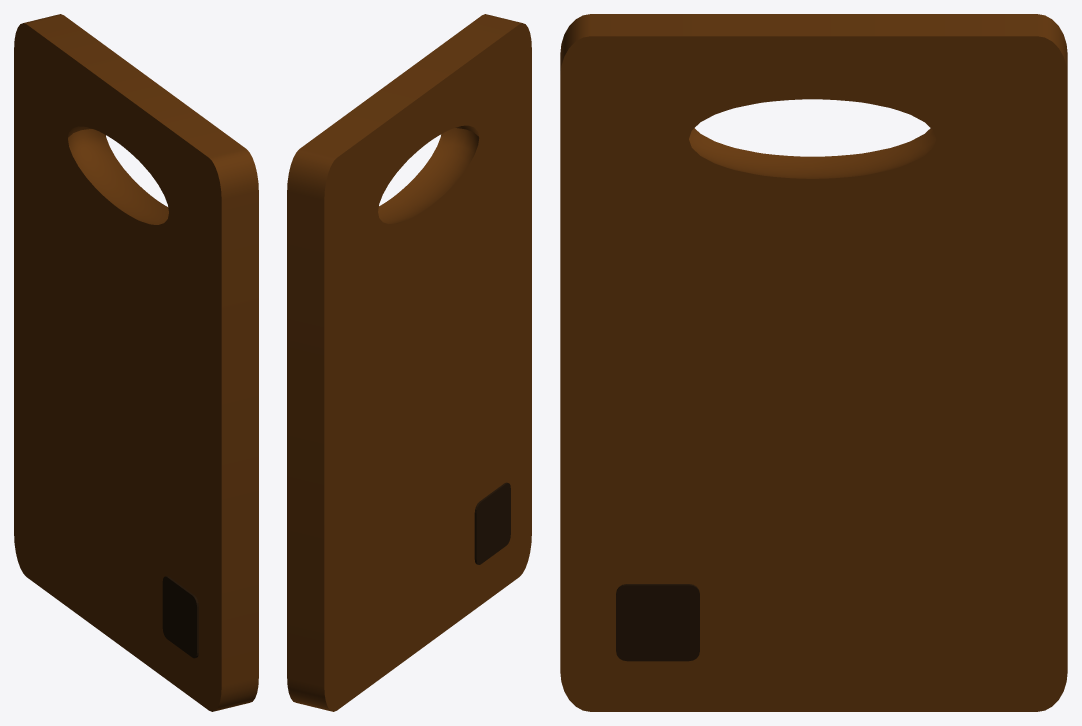
File: Doska.fbx
The picture shows the model from 3 angles, left to right: view 1: azimuth 30°, elevation 25°; view 2: azimuth 150°, elevation 25°; view 3: azimuth 270°, elevation 25°; orthographic projection. The views are drawn at different scales.
Parts seen in each view (by area): view 1: Cube; view 2: Cube; view 3: Cube.
Boxes of the visible parts, x1=… form: Cube: x1=14, y1=14, x2=258, y2=711; Cube: x1=287, y1=14, x2=531, y2=711; Cube: x1=560, y1=14, x2=1067, y2=711.
Bounding box in the file's own units: 32.4 × 416 × 283.
